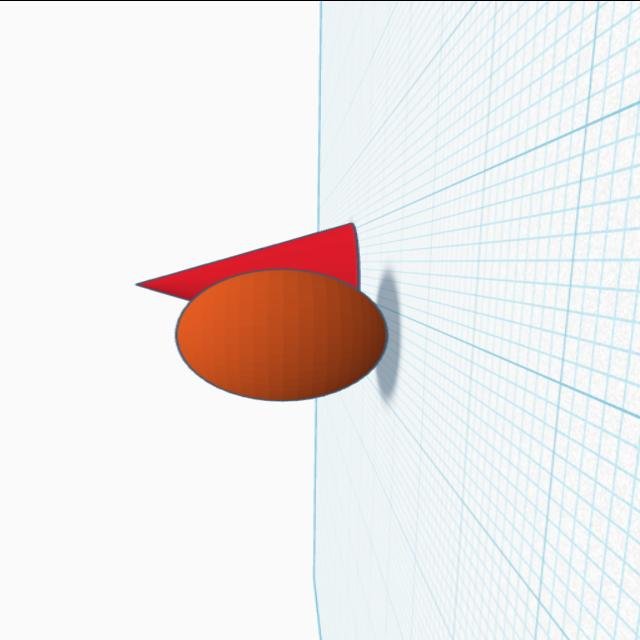sphere: (165, 264, 394, 406)
